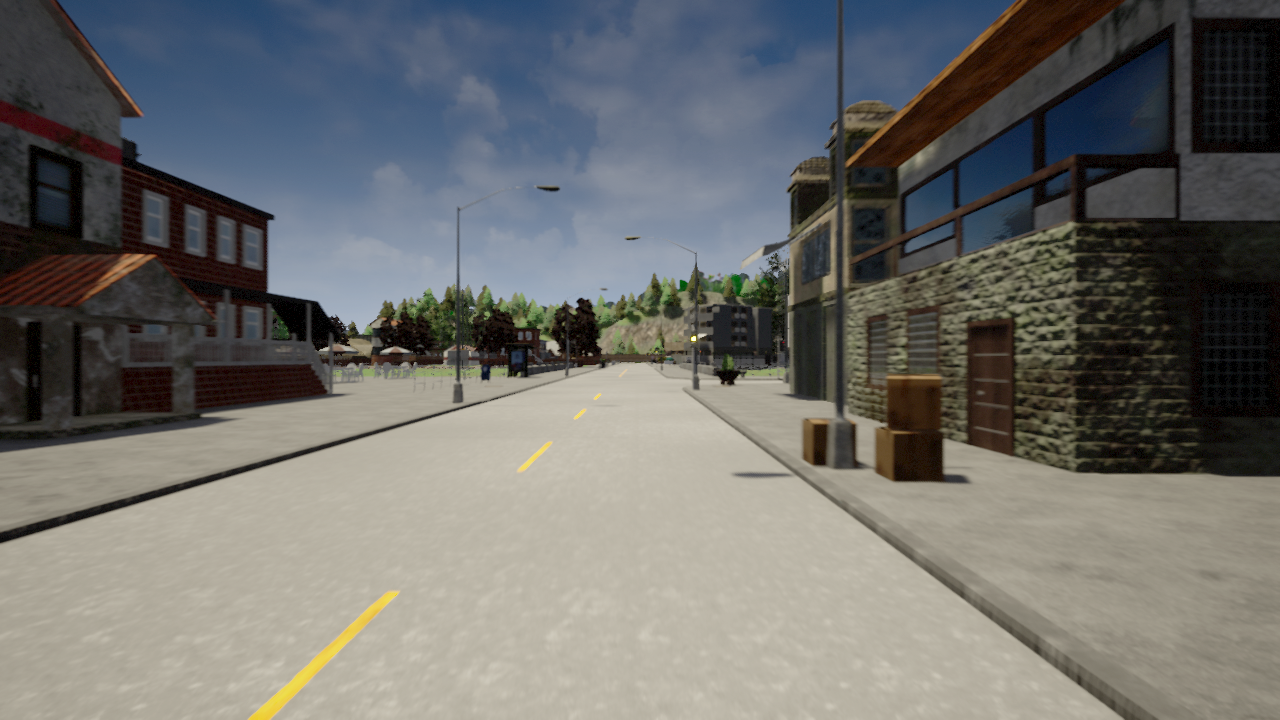yellow: (690, 333, 698, 351)
